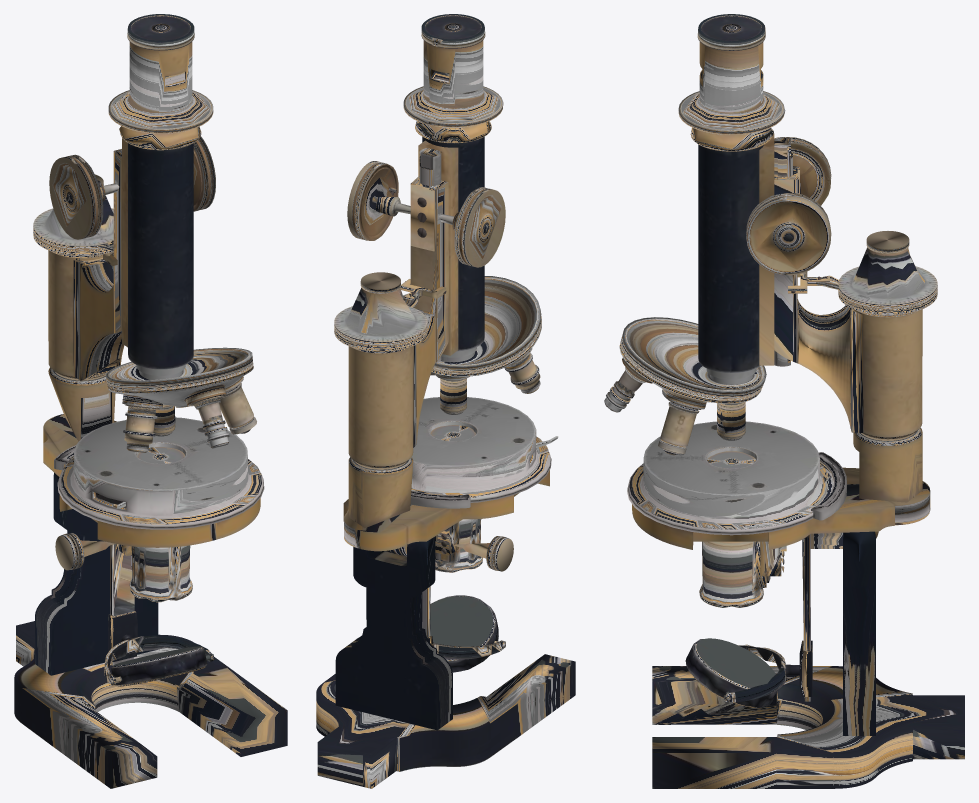
The model's file is vintage_microscope.glb.
3 renders of one model, left to right at view 1: azimuth 30°, elevation 25°; view 2: azimuth 150°, elevation 25°; view 3: azimuth 270°, elevation 25°, orthographic. The views are drawn at different scales.
Visible parts, largest first — view 1: vintage_microscope_rack_mount_support, vintage_microscope_base, vintage_microscope_eye_piece, vintage_microscope_revolver, vintage_microscope_adjustment, vintage_microscope_mirror_arm, vintage_microscope_condenser, vintage_microscope_mirror_base; view 2: vintage_microscope_rack_mount_support, vintage_microscope_base, vintage_microscope_eye_piece, vintage_microscope_adjustment, vintage_microscope_mirror_base, vintage_microscope_revolver, vintage_microscope_condenser, vintage_microscope_mirror_arm; view 3: vintage_microscope_rack_mount_support, vintage_microscope_base, vintage_microscope_eye_piece, vintage_microscope_adjustment, vintage_microscope_revolver, vintage_microscope_condenser, vintage_microscope_mirror_base, vintage_microscope_mirror_arm.
Part boxes in pixels (x1,y1,x2,y2): vintage_microscope_rack_mount_support: (33, 149, 264, 570); vintage_microscope_base: (14, 472, 287, 788); vintage_microscope_eye_piece: (105, 14, 252, 387); vintage_microscope_revolver: (107, 362, 256, 452); vintage_microscope_adjustment: (49, 136, 215, 239); vintage_microscope_mirror_arm: (104, 544, 213, 685); vintage_microscope_condenser: (129, 447, 192, 602); vintage_microscope_mirror_base: (111, 646, 207, 686); vintage_microscope_rack_mount_support: (334, 176, 558, 571); vintage_microscope_base: (316, 537, 575, 788); vintage_microscope_eye_piece: (403, 14, 541, 371); vintage_microscope_adjustment: (347, 161, 505, 267); vintage_microscope_mirror_base: (430, 595, 498, 672); vintage_microscope_revolver: (430, 316, 541, 414); vintage_microscope_condenser: (430, 425, 482, 572); vintage_microscope_mirror_arm: (422, 586, 505, 659); vintage_microscope_rack_mount_support: (627, 166, 937, 576); vintage_microscope_base: (652, 531, 964, 788); vintage_microscope_eye_piece: (621, 14, 792, 397); vintage_microscope_adjustment: (746, 137, 831, 275); vintage_microscope_revolver: (604, 337, 762, 455); vintage_microscope_condenser: (699, 451, 770, 607); vintage_microscope_mirror_base: (685, 638, 778, 707); vintage_microscope_mirror_arm: (723, 534, 812, 702).
Bounding box in the file's own units: 0.1056 × 0.3996 × 0.1819.
2 materials, 2 textured.
